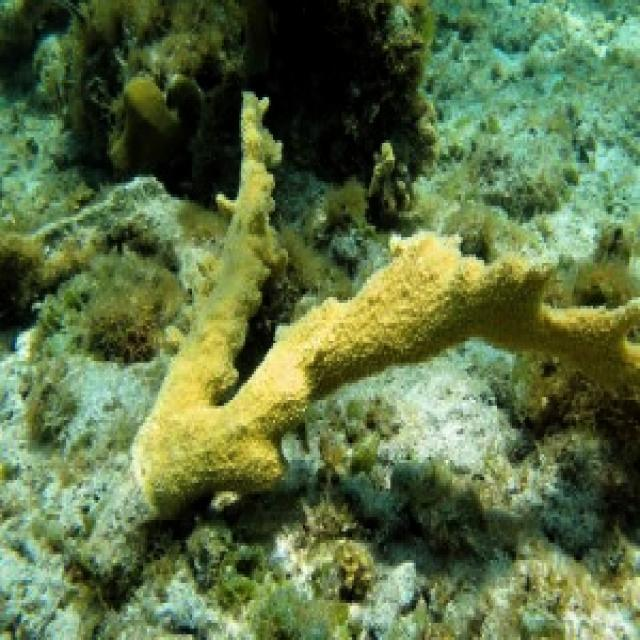Coral: (128, 88, 640, 523)
